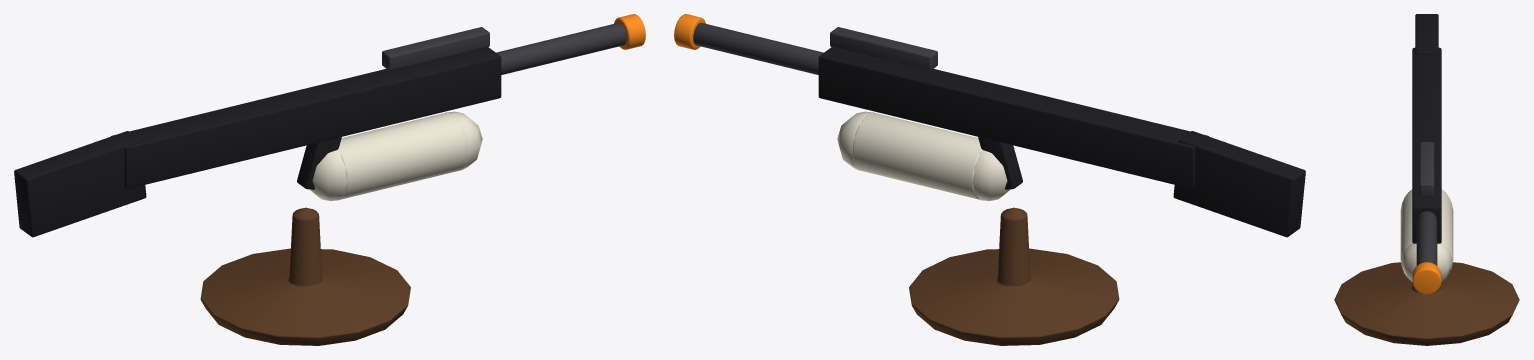
Rendered from flamethrower.glb.
3 renders of one model, left to right at view 1: azimuth 30°, elevation 25°; view 2: azimuth 150°, elevation 25°; view 3: azimuth 270°, elevation 25°, orthographic. The views are drawn at different scales.
Parts seen in each view (by area): view 1: flamethrower; view 2: flamethrower; view 3: flamethrower.
Boxes of the visible parts, x1,y1,x2,y2 form: flamethrower: [14, 14, 645, 345]; flamethrower: [674, 14, 1305, 345]; flamethrower: [1334, 14, 1519, 345].
Size of the model in its own units: 2.14 by 0.765 by 0.6357.
